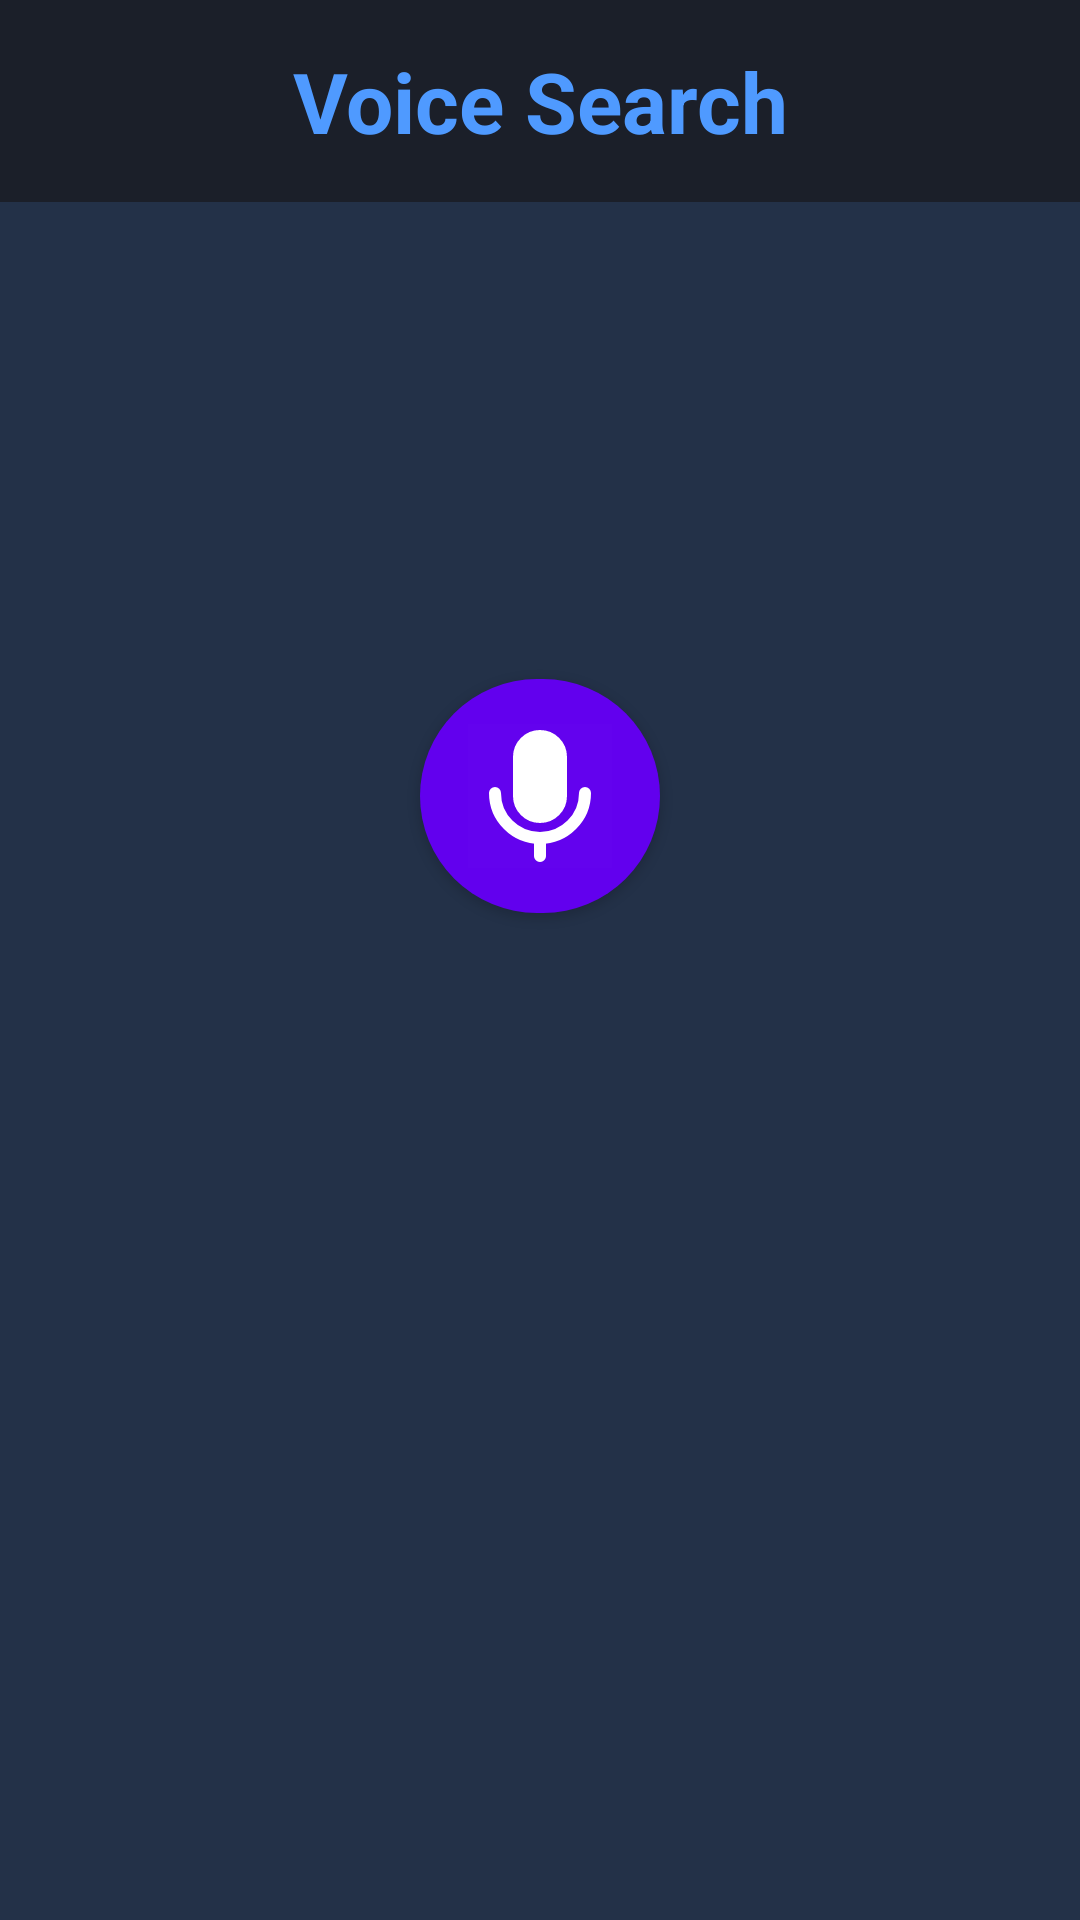

Icons on this 1080px x 1920px Android screen, each with its box as (x1, y1, x2, y2):
mic: (420, 679, 660, 913)
